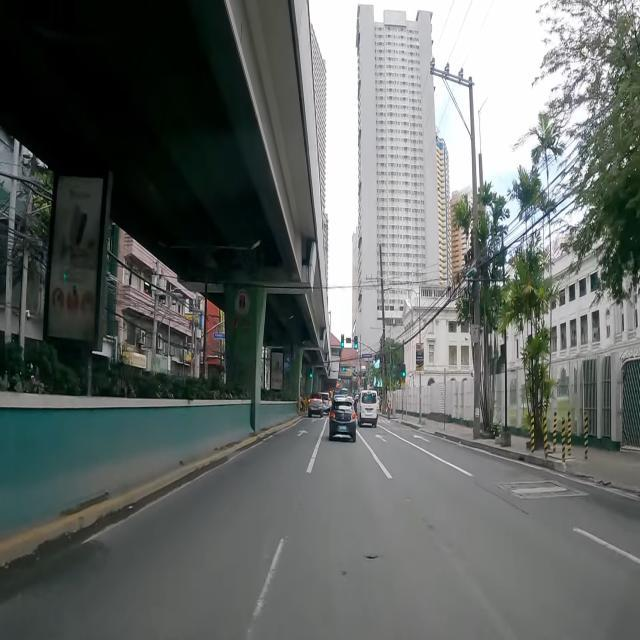car: (329, 398, 356, 440), (356, 390, 378, 429), (308, 393, 323, 418), (318, 392, 330, 416)
